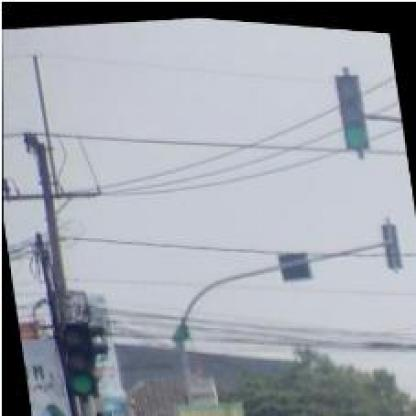green: (54, 315, 96, 400), (334, 64, 370, 145)
